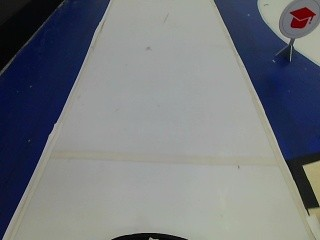school: (283, 0, 318, 42)
